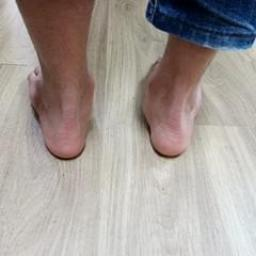Back View -Both Feet-: (9, 25, 238, 180)
